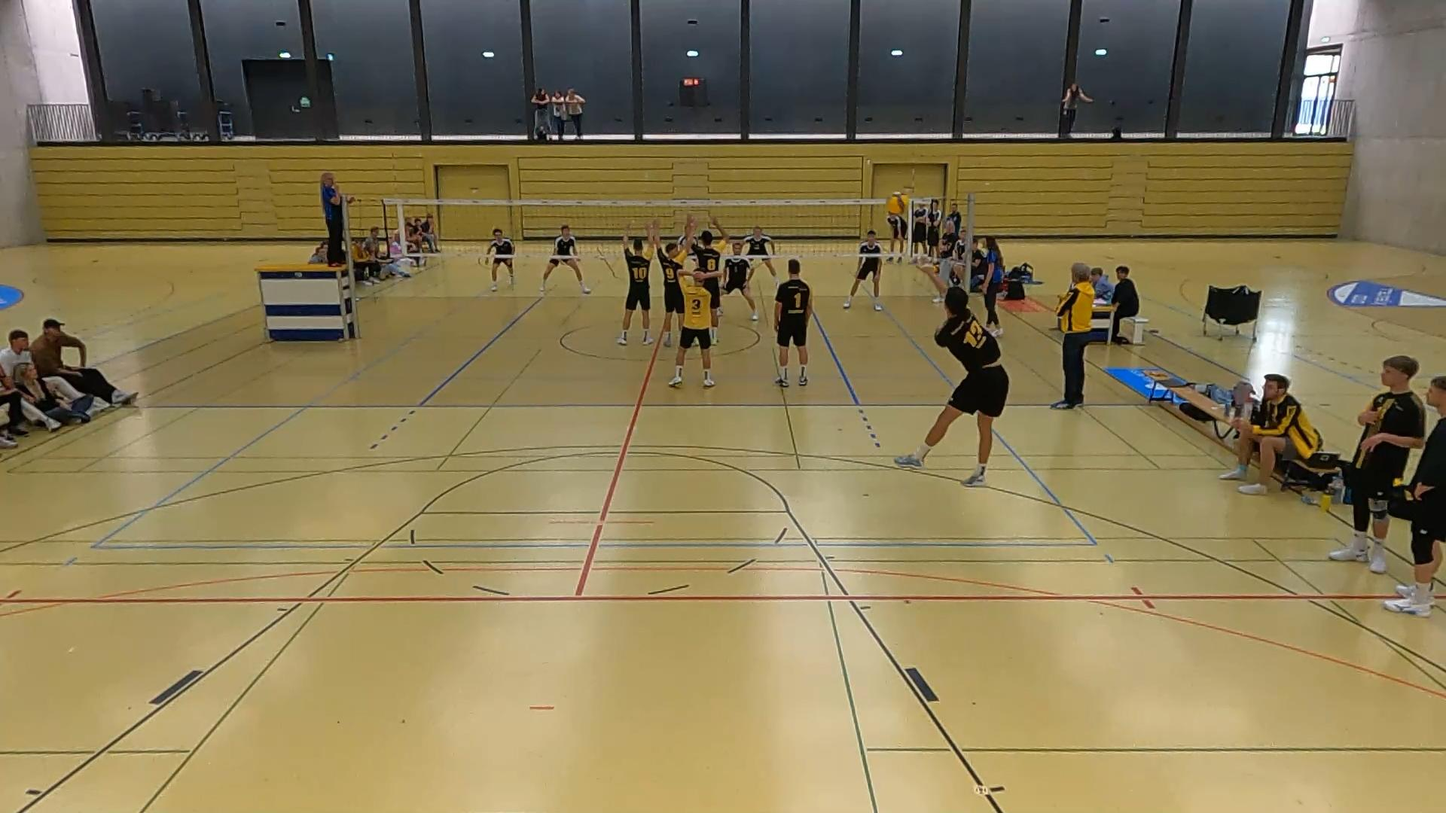Player: (669, 263, 721, 387), (650, 221, 692, 346), (774, 259, 812, 386), (618, 224, 656, 345), (539, 226, 590, 294), (693, 230, 721, 342), (843, 230, 882, 310), (721, 242, 758, 321), (721, 240, 757, 320), (745, 226, 777, 282), (487, 228, 514, 291)
Serve: (885, 278, 1018, 486)
ball: (886, 189, 909, 216)
